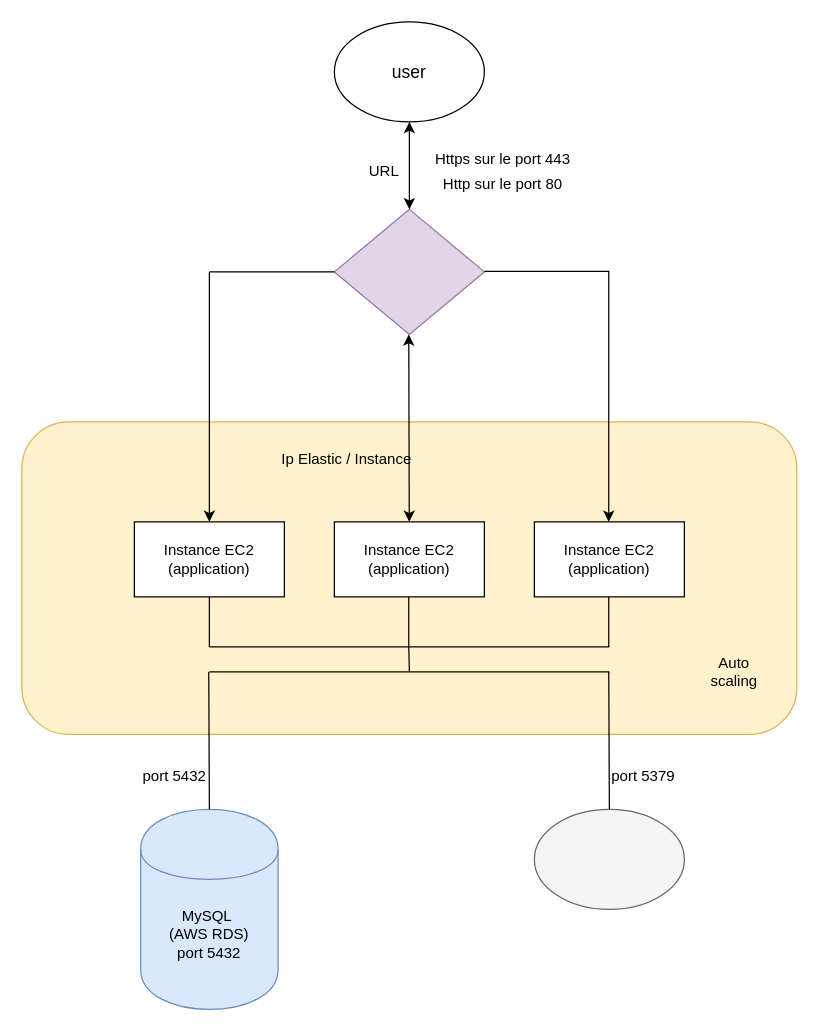
The diagram is 819 pixels wide and 1031 high, and some of its shapes have lost their labels. The shapes that lost their labels are listed below. From the top down, each one's box as (x1, y1, x2, y2) in pixels, then its label:
(333, 208, 484, 334): Elastic application load balancer
(533, 808, 684, 909): ElastiCache cluster redis port 5379
